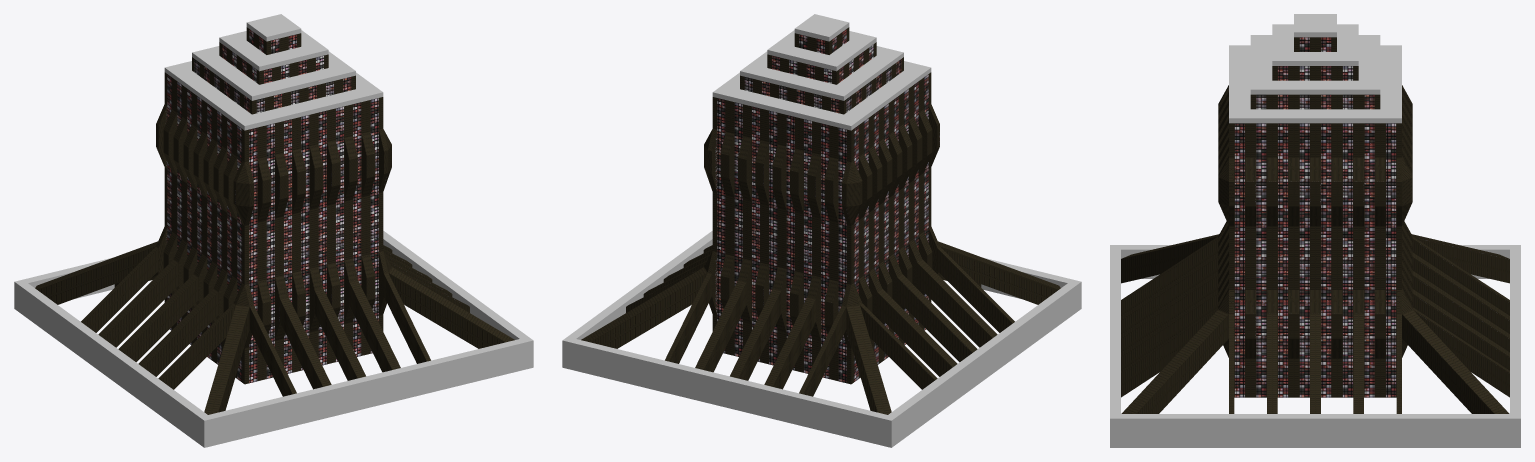
The model's file is Haus5.dae.
3 views of the same model, side by side, from view 1: azimuth 30°, elevation 25°; view 2: azimuth 150°, elevation 25°; view 3: azimuth 270°, elevation 25° (orthographic). The views are drawn at different scales.
Parts seen in each view (by area): view 1: cube4, cube115, cube116, cube86, cube113, cube87, cube112, cube3, cube97, cube98, cube99, cube110 (+36 smaller); view 2: cube4, cube114, cube116, cube86, cube111, cube87, cube110, cube3, cube98, cube97, cube99, cube112 (+36 smaller); view 3: cube4, cube117, cube86, cube87, cube111, cube113, cube88, cube3, cube100, cube106, cube110, cube112 (+34 smaller).
Part boxes in pixels (box(x1,y1,x2,y2)): cube4: box(164, 72, 383, 384); cube115: box(204, 339, 533, 447); cube116: box(14, 281, 207, 447); cube86: box(164, 61, 383, 130); cube113: box(388, 267, 514, 348); cube87: box(192, 46, 355, 100); cube112: box(35, 241, 157, 304); cube3: box(192, 57, 355, 114); cube97: box(138, 288, 218, 376); cube98: box(98, 259, 178, 347); cube99: box(118, 274, 198, 362); cube110: box(204, 305, 249, 414); cube4: box(712, 72, 931, 384); cube114: box(562, 339, 891, 447); cube116: box(888, 281, 1081, 447); cube86: box(712, 61, 931, 130); cube111: box(581, 267, 707, 348); cube87: box(740, 46, 903, 100); cube110: box(938, 241, 1060, 304); cube3: box(740, 57, 903, 114); cube98: box(877, 288, 957, 376); cube97: box(917, 259, 997, 347); cube99: box(897, 274, 977, 362); cube112: box(846, 305, 891, 414); cube4: box(1229, 123, 1401, 397); cube117: box(1110, 414, 1520, 447); cube86: box(1229, 45, 1401, 123); cube87: box(1250, 35, 1380, 94); cube111: box(1402, 309, 1509, 413); cube113: box(1121, 309, 1228, 413); cube88: box(1272, 24, 1358, 65); cube3: box(1250, 94, 1380, 109); cube100: box(1412, 307, 1509, 397); cube106: box(1121, 307, 1218, 397); cube110: box(1121, 234, 1219, 283); cube112: box(1411, 234, 1509, 283).
Bounding box in the file's own units: 4864 × 4416 × 4864.
